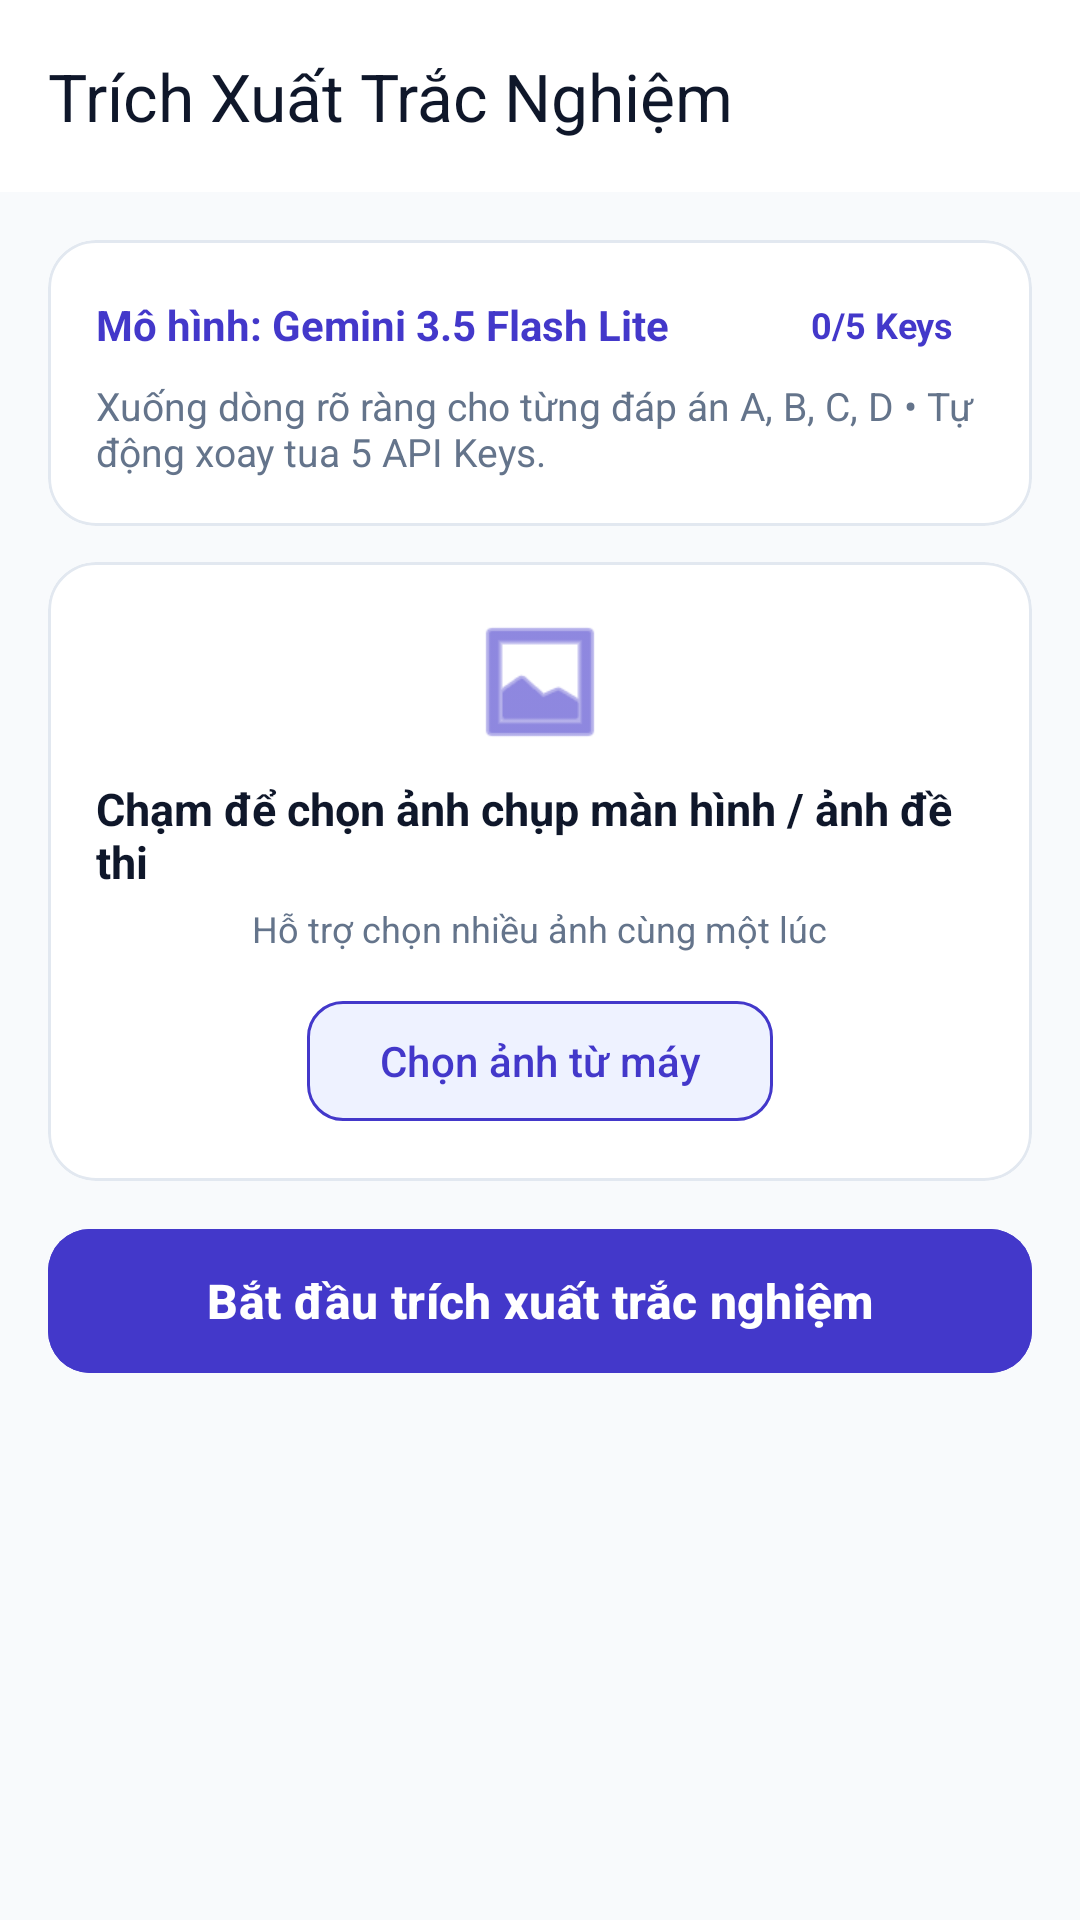

Icons on this 1080px×1920px Android screen, each with its box as rect(x1, y1, x2, y2):
gallery: rect(486, 628, 594, 736)
